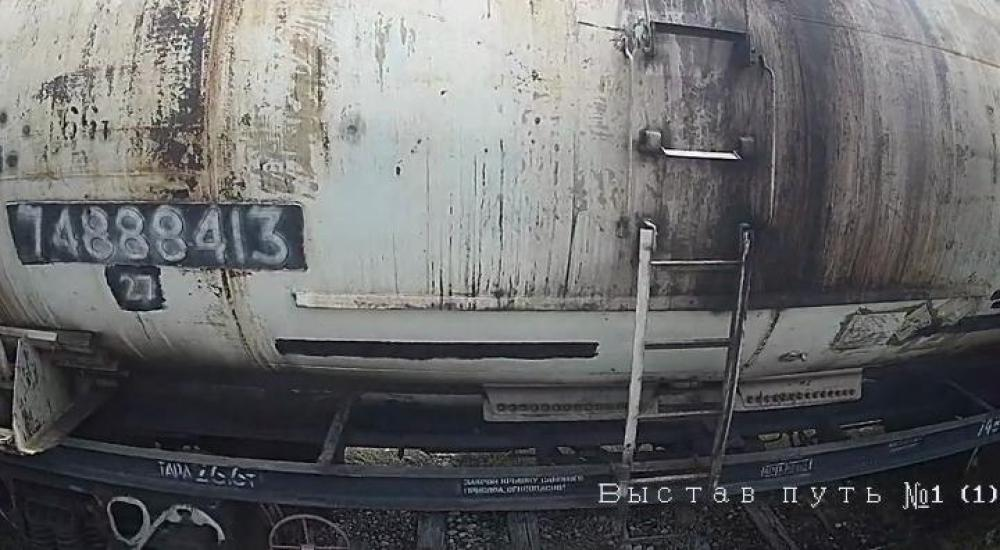Wagon-number: (15, 203, 293, 265)
